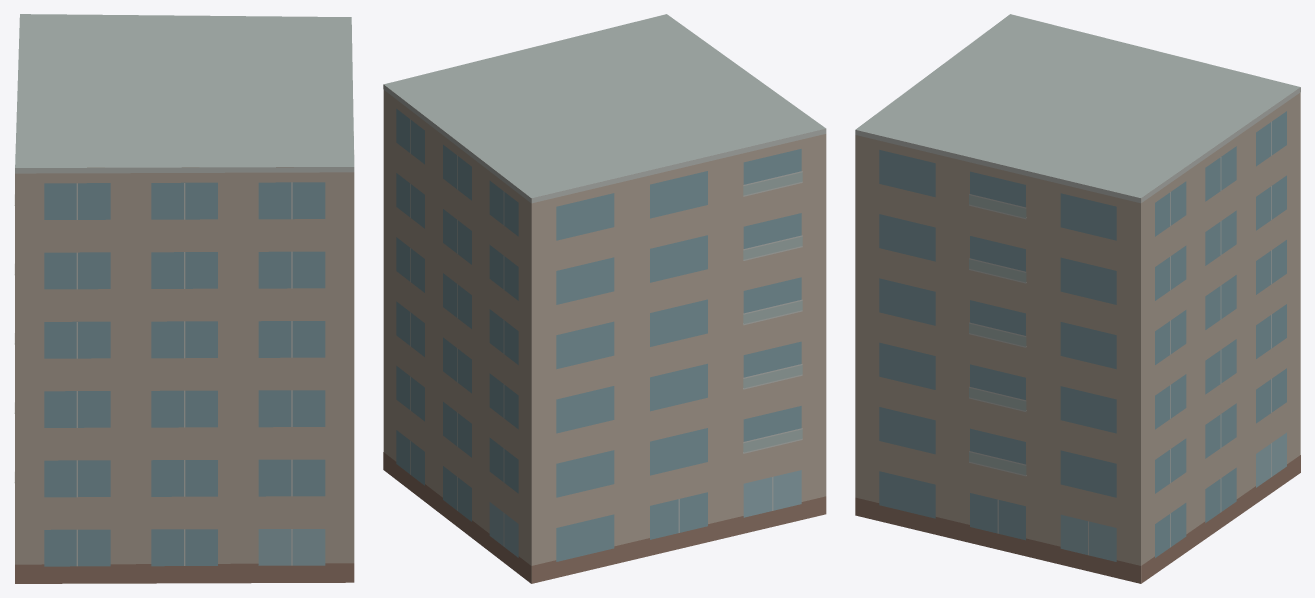
Rendered from survey-upis-32885263.glb.
3 renders of one model, left to right at view 1: azimuth 30°, elevation 25°; view 2: azimuth 150°, elevation 25°; view 3: azimuth 270°, elevation 25°, orthographic. The views are drawn at different scales.
Parts seen in each view (by area): view 1: survey-upis-32885263.tmp; view 2: survey-upis-32885263.tmp; view 3: survey-upis-32885263.tmp.
Boxes of the visible parts, x1,y1,x2,y2 form: survey-upis-32885263.tmp: (14,14,354,583); survey-upis-32885263.tmp: (383,14,826,583); survey-upis-32885263.tmp: (855,14,1300,583).
Size of the model in its own units: 18.86 by 18.4 by 19.27.
